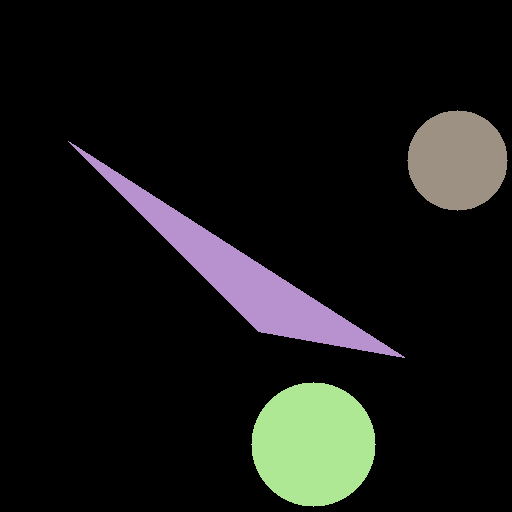circle: (251, 382, 375, 506), (407, 110, 507, 210)
triangle: (68, 141, 404, 357)
